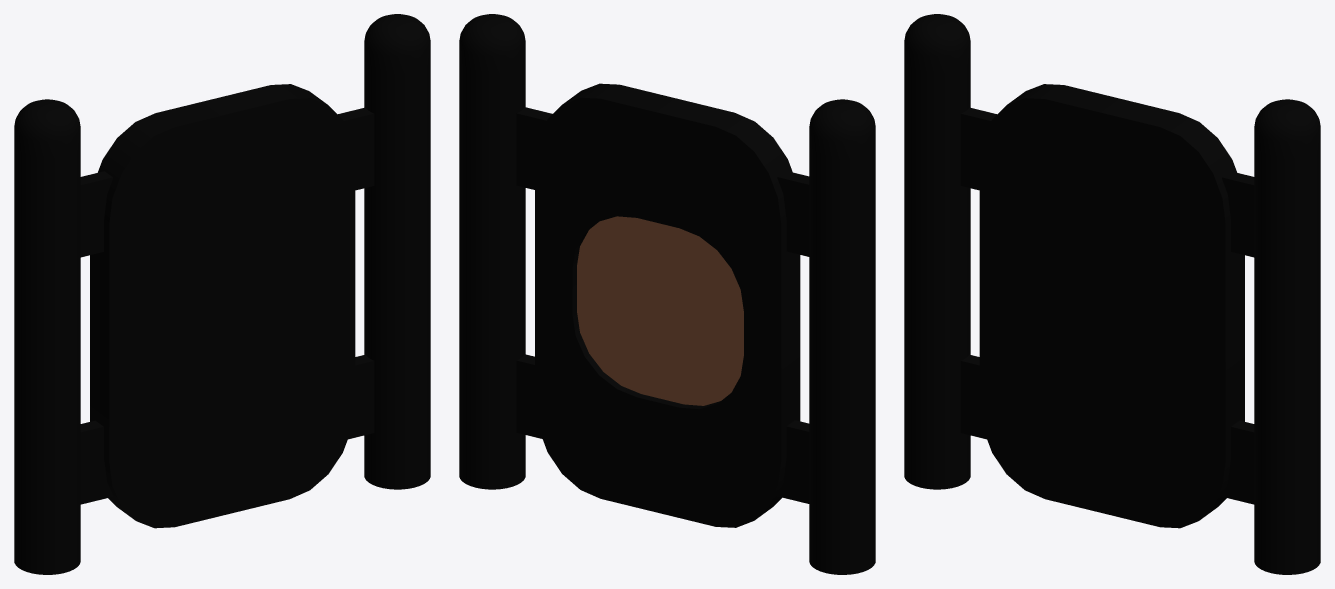
The model's file is billboard.fbx.
The picture shows the model from 3 angles, left to right: view 1: azimuth 30°, elevation 25°; view 2: azimuth 150°, elevation 25°; view 3: azimuth 330°, elevation 25°; orthographic projection.
Parts seen in each view (by area): view 1: Cylinder.007; view 2: Cylinder.007; view 3: Cylinder.007.
Part boxes in pixels (left/top/right/bottom): Cylinder.007: left=14, top=14, right=430, bottom=574; Cylinder.007: left=459, top=14, right=875, bottom=574; Cylinder.007: left=904, top=14, right=1320, bottom=574.
Bounding box in the file's own units: 110 × 118 × 15.63.
Materials: 2 (1 with a texture image).
